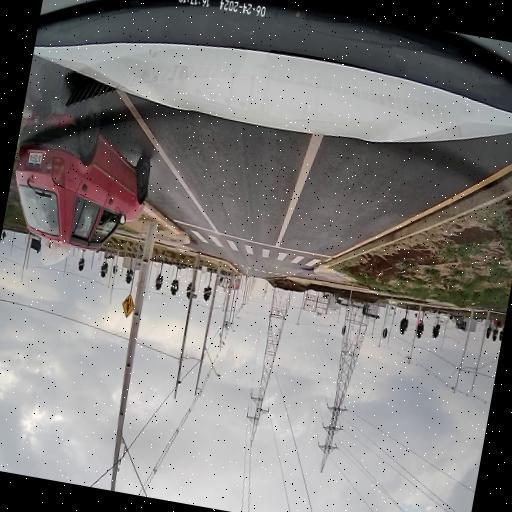A-32b: (118, 292, 135, 316)
